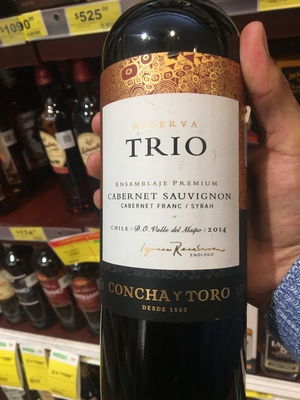trio cabernet sauvignon: (86, 13, 270, 400)
